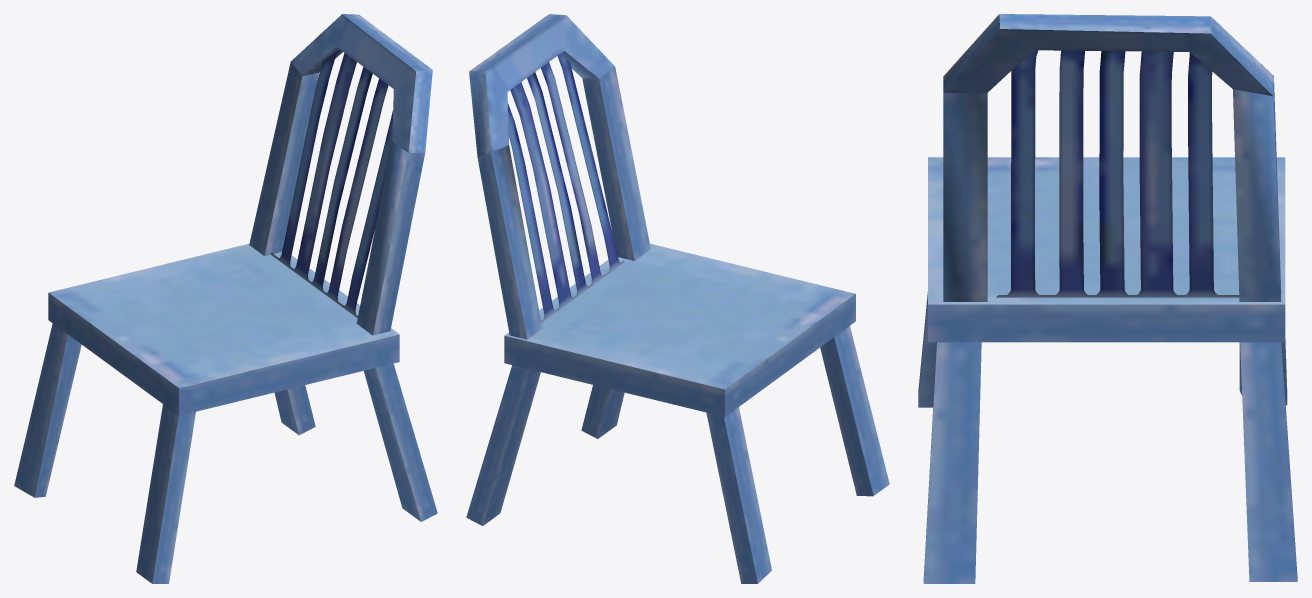
The model's file is nml-bd058.glb.
The picture shows the model from 3 angles, left to right: view 1: azimuth 30°, elevation 25°; view 2: azimuth 150°, elevation 25°; view 3: azimuth 270°, elevation 25°; orthographic projection. The views are drawn at different scales.
Visible parts, largest first — view 1: geom_node_0; view 2: geom_node_0; view 3: geom_node_0.
Part boxes in pixels (box(x1,y1,x2,y2)): geom_node_0: box(14, 14, 437, 583); geom_node_0: box(466, 14, 889, 583); geom_node_0: box(918, 14, 1297, 583).
Size of the model in its own units: 0.9311 by 1.19 by 0.7065.
1 material, 1 textured.
